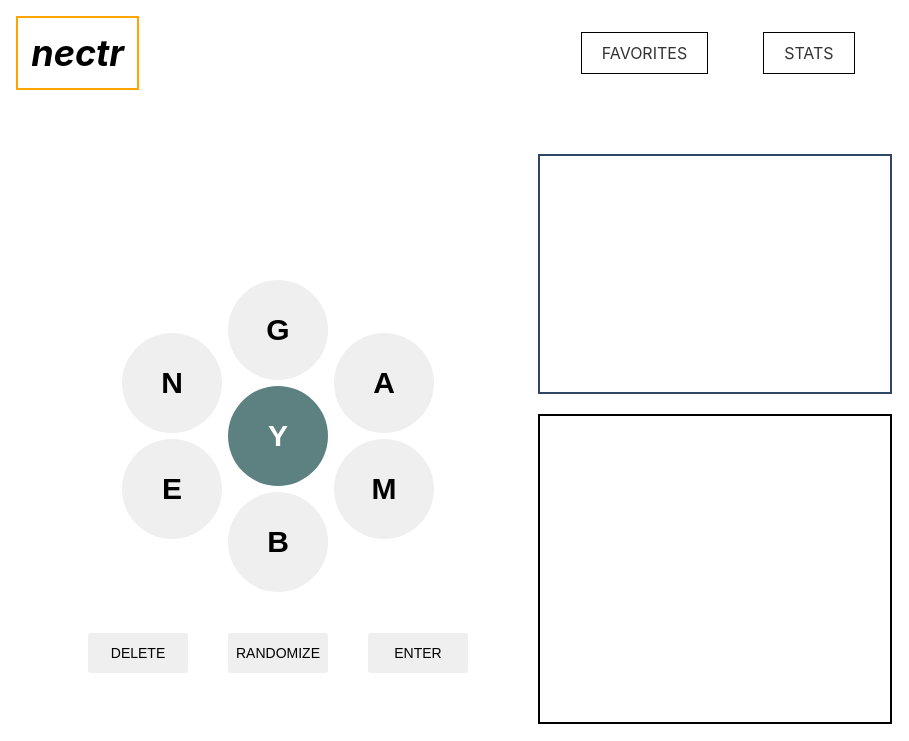
Test: Should properly handle errors › Should display an error if the input is invalid
This screenshot has width=909, height=741.
Click the button "B". click: (278, 542)
box: top-left (228, 492), bottom-right (328, 592)
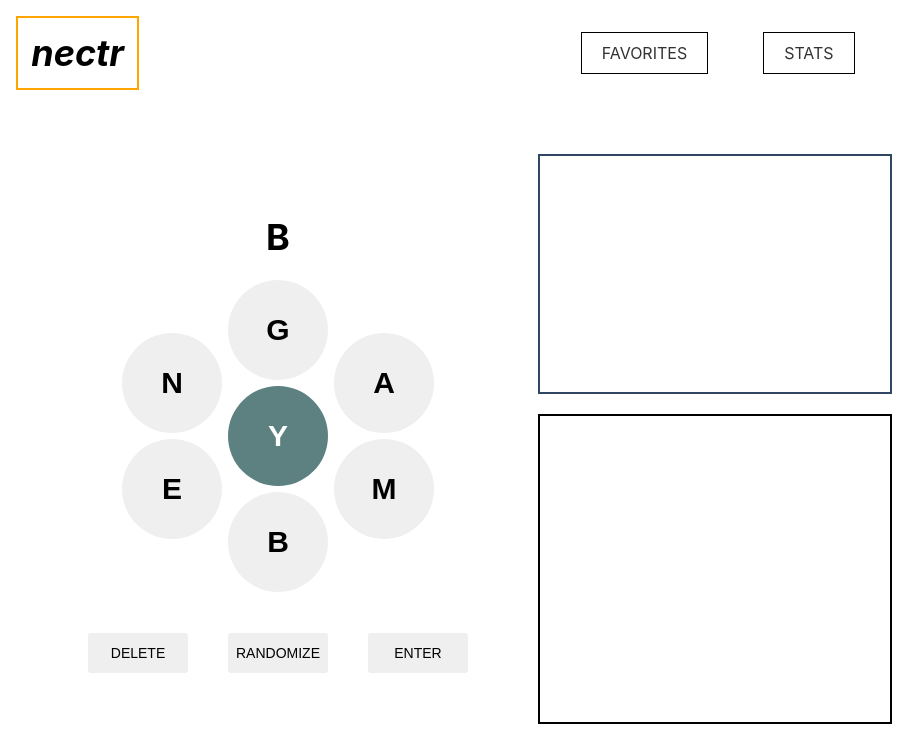
Click the button "A". click: (384, 383)
box: top-left (334, 333), bottom-right (434, 433)
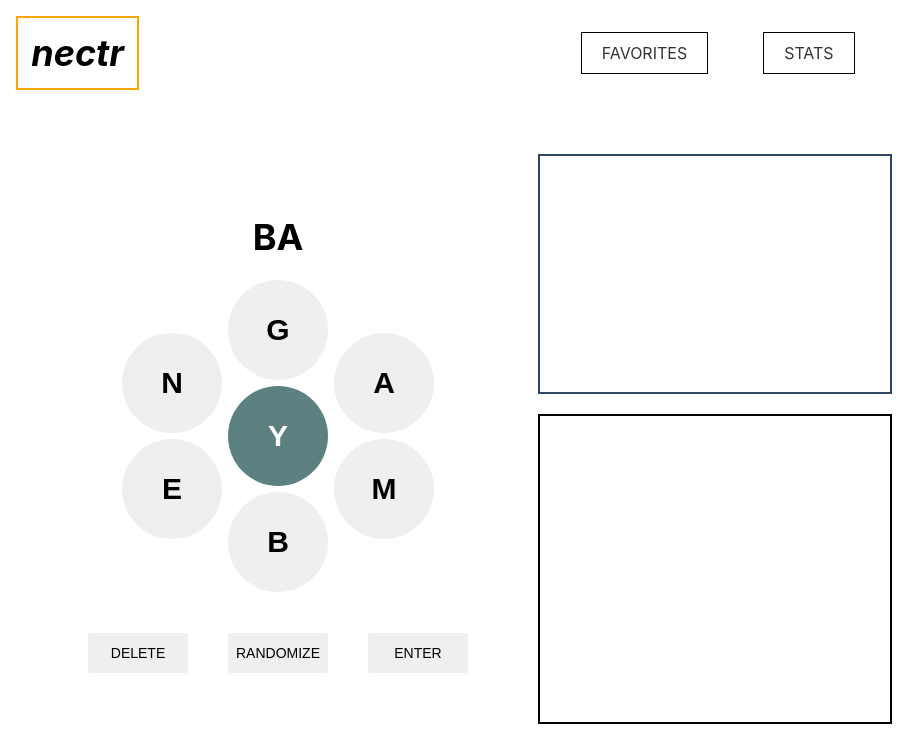
Click the button "A". click: (384, 383)
box: top-left (334, 333), bottom-right (434, 433)
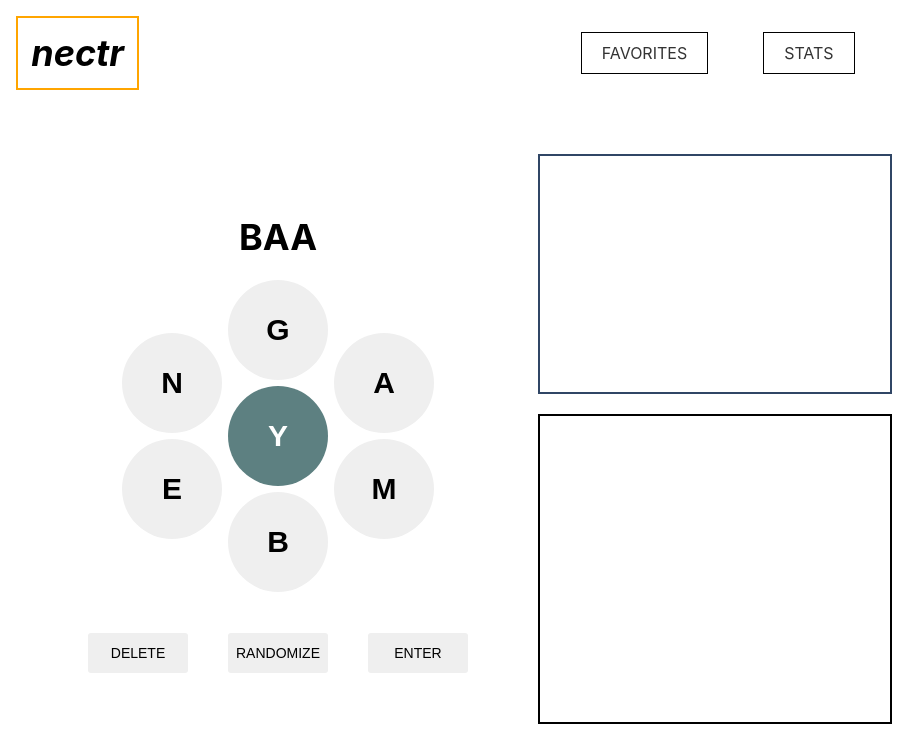
Click the button "E". click: (172, 489)
box: top-left (122, 439), bottom-right (222, 539)
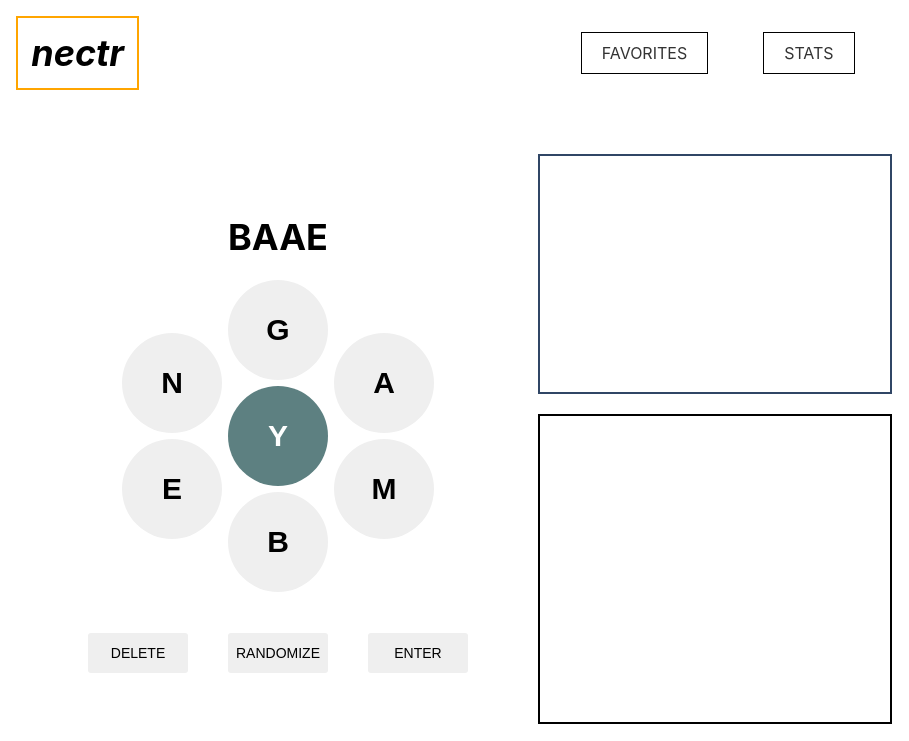
Click the button with class "game-play-button" showing "ENTER". click: (418, 653)
box: top-left (368, 633), bottom-right (468, 673)
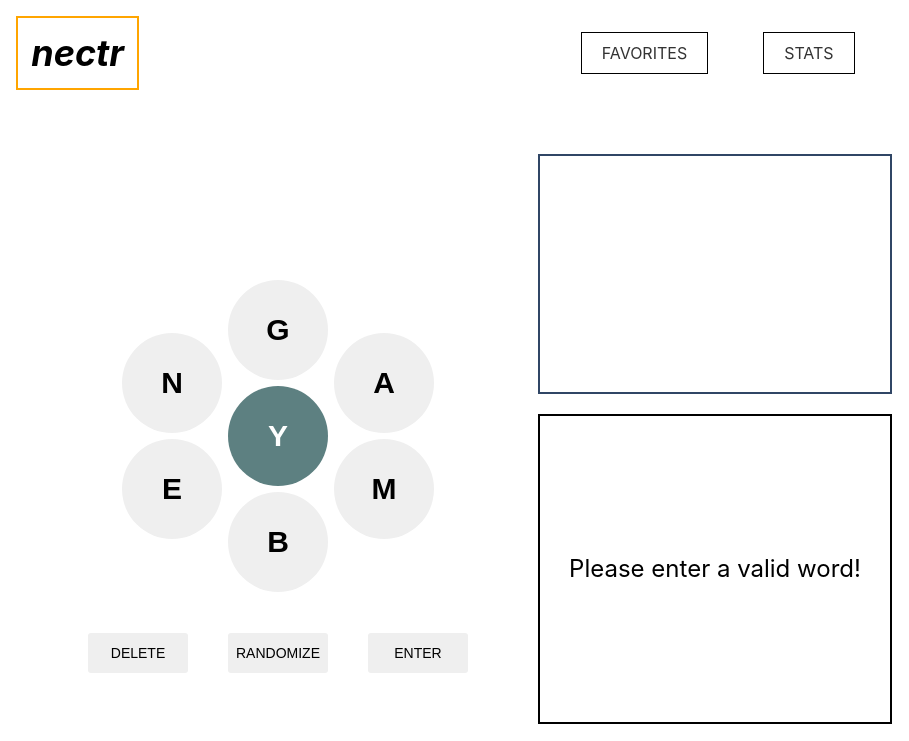
Check: the element with class "error-card" reads "Please enter a valid word!", box top-left (538, 414), bottom-right (892, 724)
